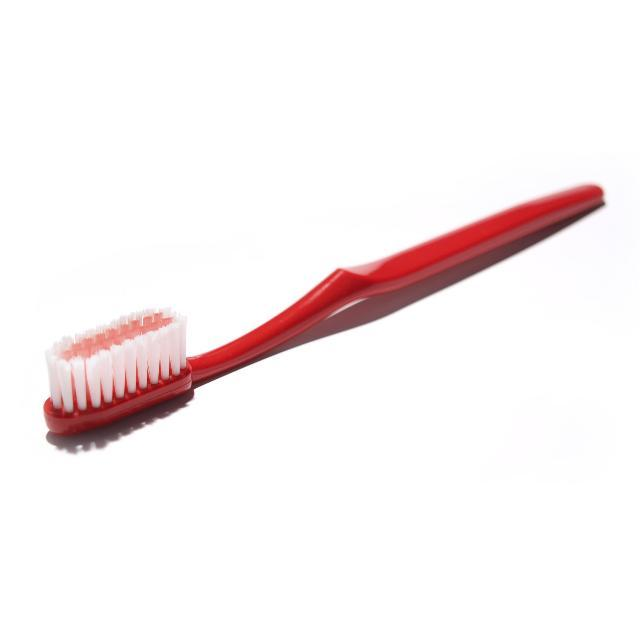toothbrush: (34, 270, 343, 454)
